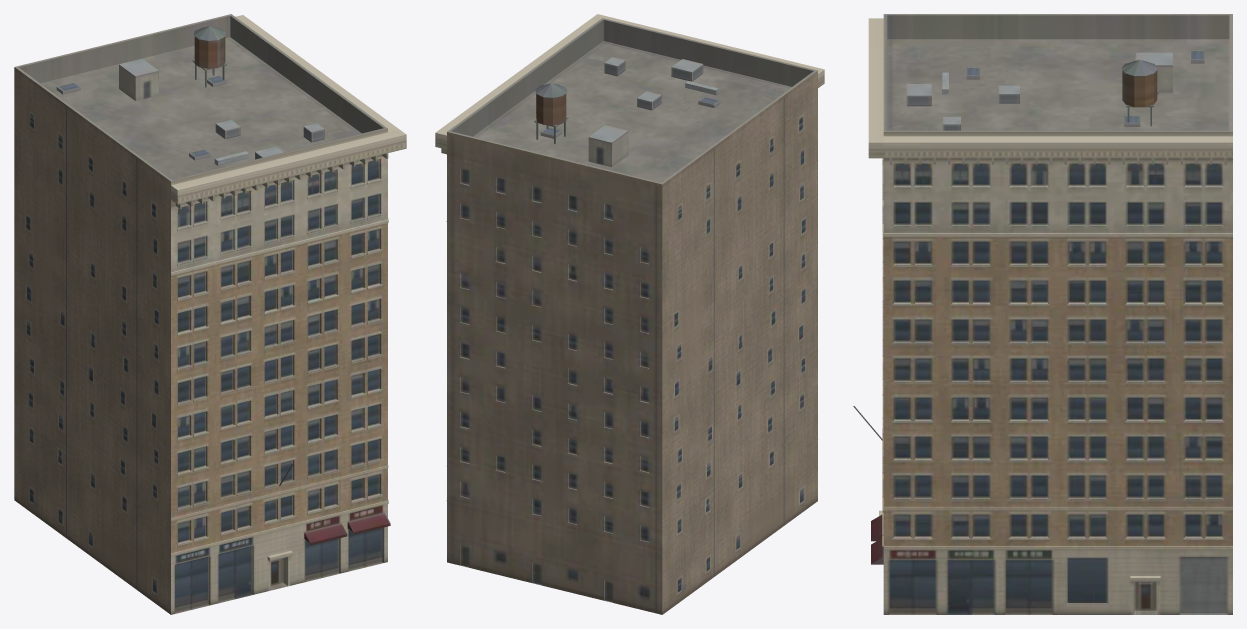
File: sf_brick_e.glb
The picture shows the model from 3 angles, left to right: view 1: azimuth 30°, elevation 25°; view 2: azimuth 150°, elevation 25°; view 3: azimuth 270°, elevation 25°; orthographic projection. The views are drawn at different scales.
Parts seen in each view (by area): view 1: sf_brick_e; view 2: sf_brick_e; view 3: sf_brick_e.
Boxes of the visible parts, bbox=[...] form: sf_brick_e: bbox=[14, 14, 406, 614]; sf_brick_e: bbox=[435, 14, 824, 614]; sf_brick_e: bbox=[853, 14, 1232, 614].
Bounding box in the file's own units: 25.3 × 49.38 × 32.64.
Materials: 1 (1 with a texture image).
